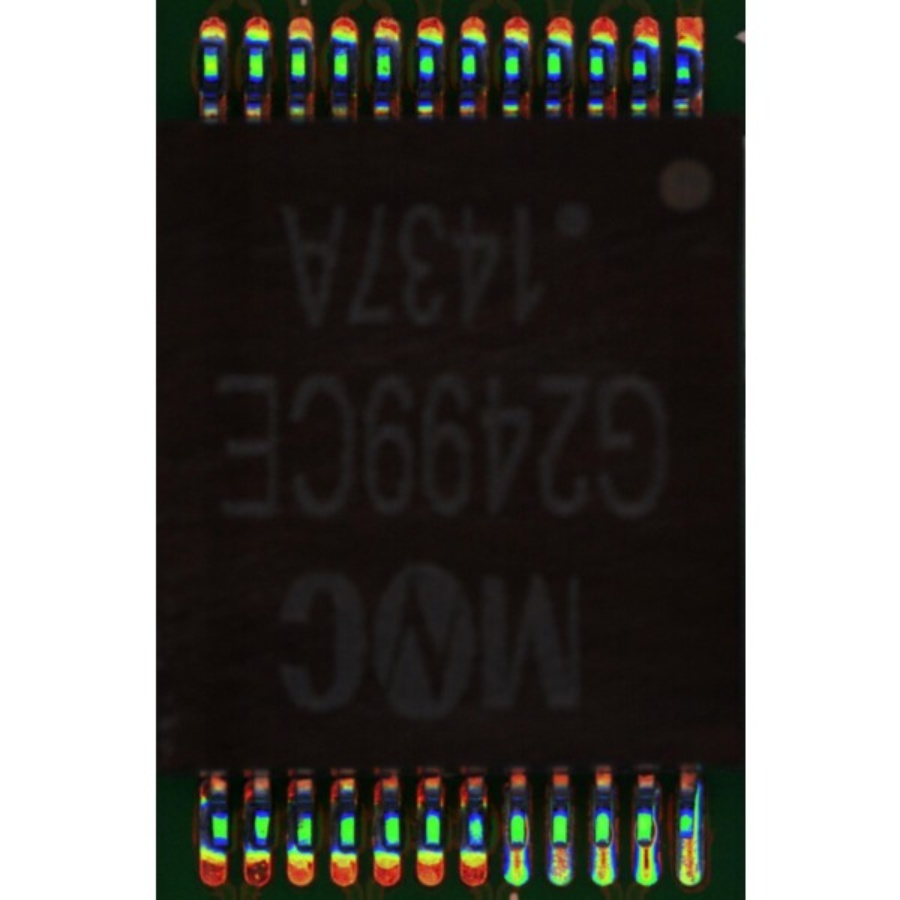Bad_podu: (594, 837, 608, 862), (637, 834, 651, 859), (552, 837, 566, 861), (681, 826, 694, 851), (509, 837, 522, 861)
Bad_qiaojiao: (695, 782, 703, 841), (652, 791, 660, 839)
